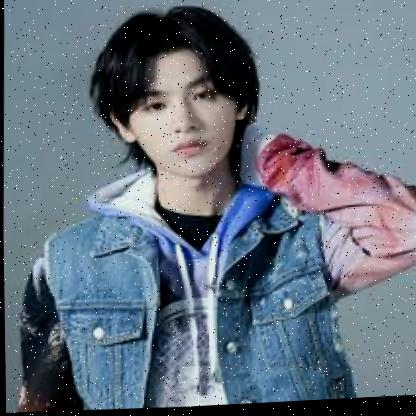person: (87, 0, 271, 193)
